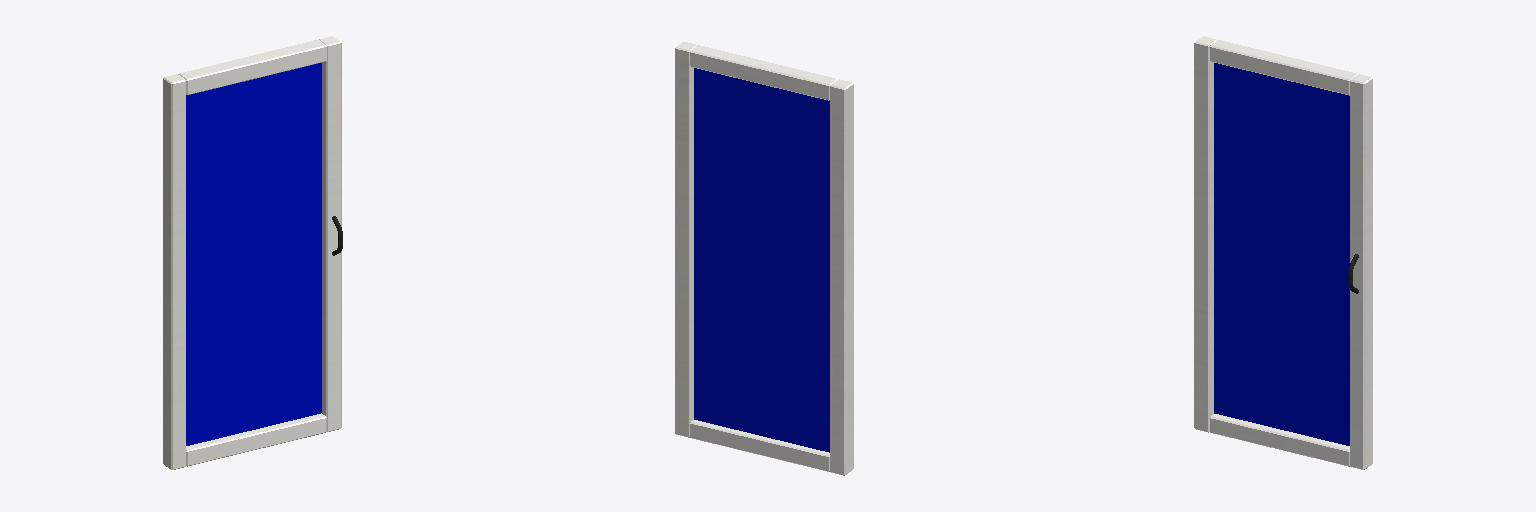
3 renders of one model, left to right at view 1: azimuth 30°, elevation 25°; view 2: azimuth 150°, elevation 25°; view 3: azimuth 330°, elevation 25°, orthographic.
Parts seen in each view (by area): view 1: Object076, Object074; view 2: Object076, Object074; view 3: Object076, Object074.
Part boxes in pixels (x1,y1,x2,y2): Object076: (186,63,321,445); Object074: (163,36,341,469); Object076: (694,68,829,452); Object074: (675,42,853,475); Object076: (1214,63,1349,445); Object074: (1194,36,1372,469).
Bounding box in the file's own units: 438 × 950 × 72.94.
3 materials, 1 textured.